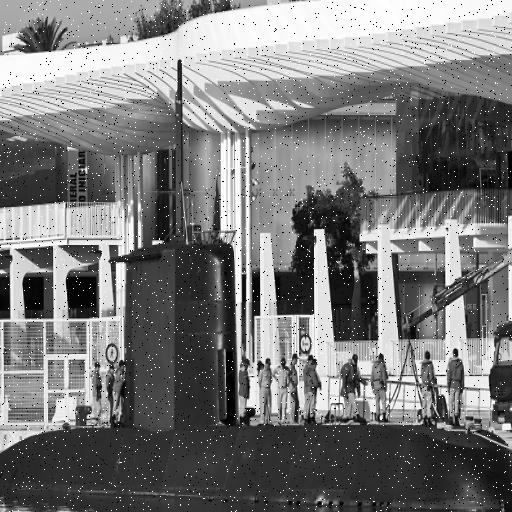submarine: (1, 49, 512, 512)
